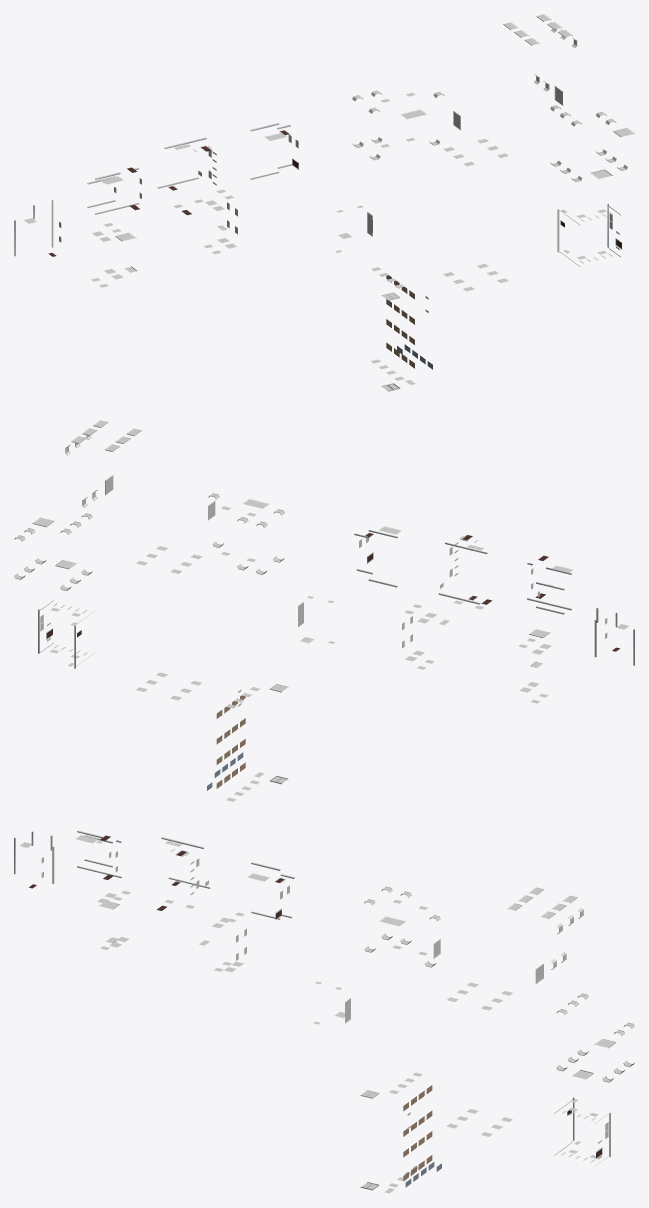
3 renders of one model, top to bottom at view 1: azimuth 30°, elevation 25°; view 2: azimuth 150°, elevation 25°; view 3: azimuth 330°, elevation 25°, orthographic.
Visible parts, largest first — view 1: SM_000300.001; view 2: SM_000300.001; view 3: SM_000300.001.
Part boxes in pixels (x1,y1,x2,y2): SM_000300.001: (14, 14, 634, 391); SM_000300.001: (14, 420, 634, 801); SM_000300.001: (14, 830, 634, 1193).
Bounding box in the file's own units: 120 × 58.87 × 12.86.
